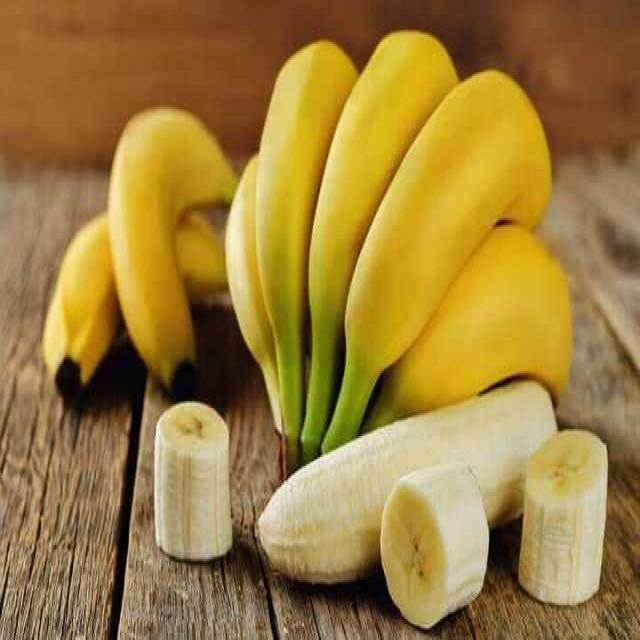banana: (322, 71, 550, 451), (301, 32, 456, 458), (258, 382, 555, 583), (256, 41, 356, 467), (366, 226, 571, 430), (108, 108, 236, 397), (380, 463, 488, 629), (225, 155, 281, 432), (519, 431, 607, 604), (42, 215, 120, 395), (43, 215, 120, 395), (154, 403, 231, 560), (175, 211, 226, 304)
